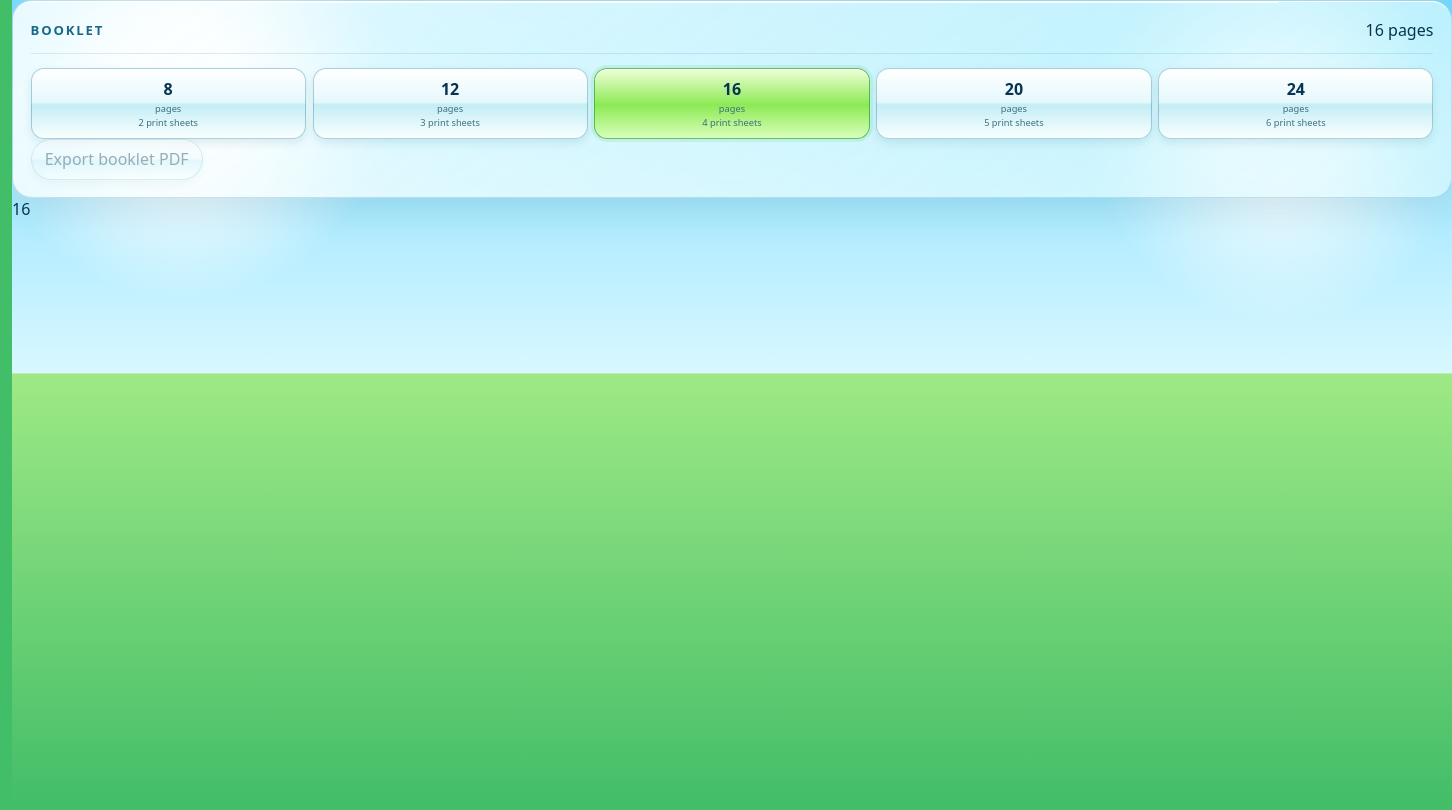
booklet rules › propagates the selected page count to the owner
What coordinates should you click on to do the following:
click the button "12 pages 3 print sheets"
I would click on:
 (450, 104)
Its box is left=312, top=68, right=588, bottom=139.
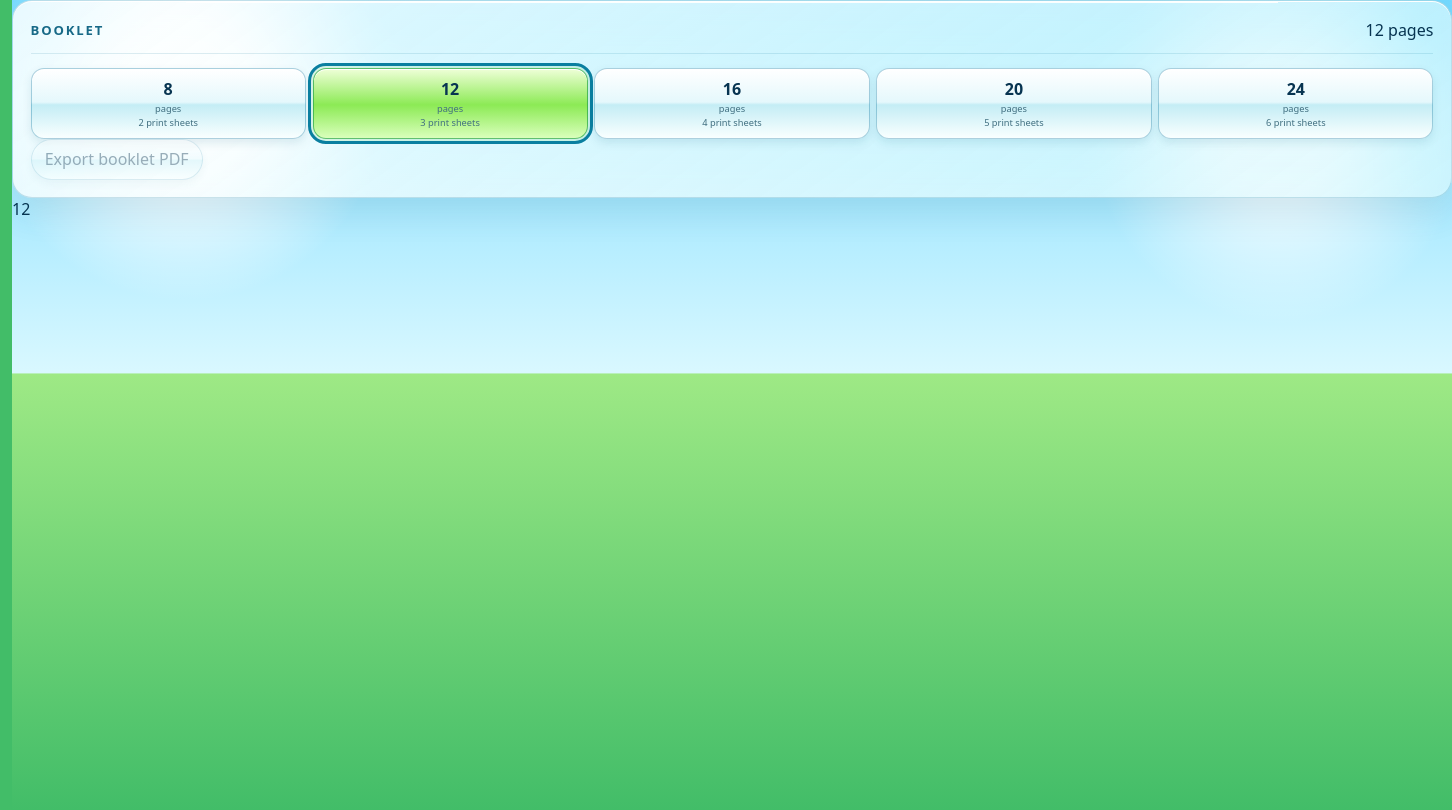
What coordinates should you click on to do the following:
click the button "8 pages 2 print sheets"
I would click on:
 (168, 104)
Its box is left=31, top=68, right=306, bottom=139.
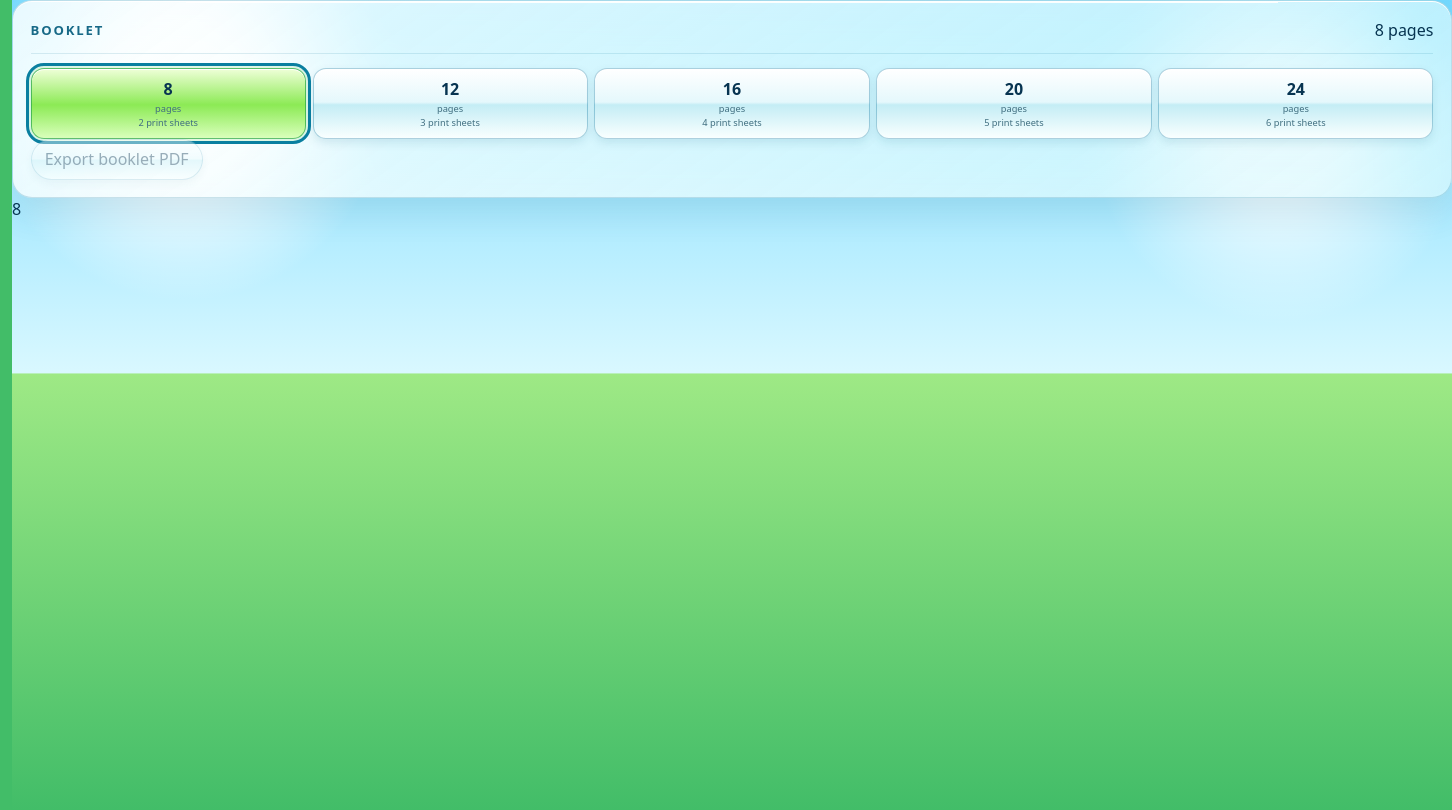
Now the text with test id "booklet-pages" reads "8 pages", box left=1375, top=19, right=1433, bottom=41
Now the text with test id "parent-pages" reads "8", box left=12, top=198, right=21, bottom=220
